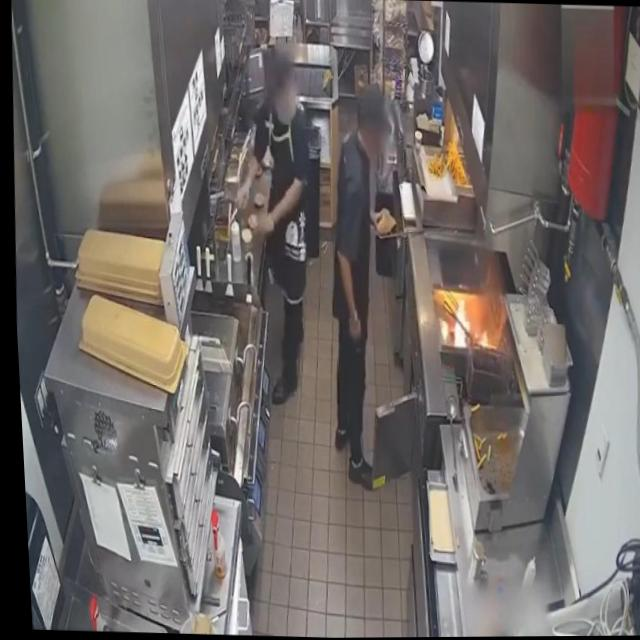fire: (446, 297, 470, 346), (473, 325, 488, 347)
